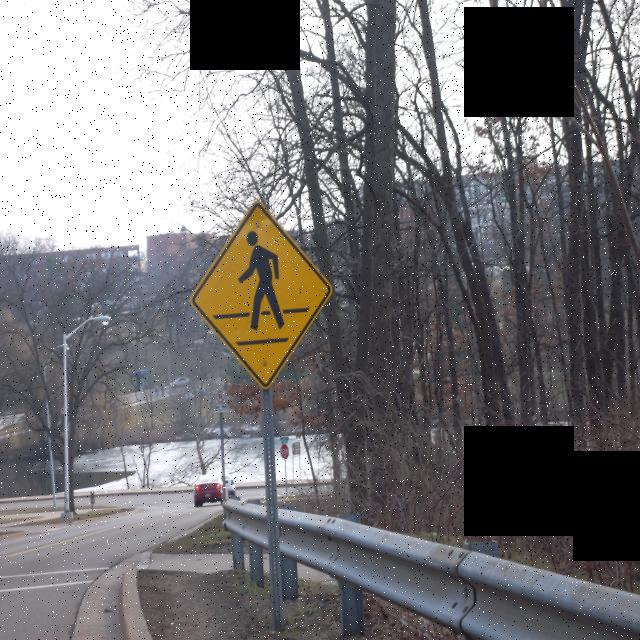warning: (188, 200, 338, 385), (188, 202, 335, 386)
